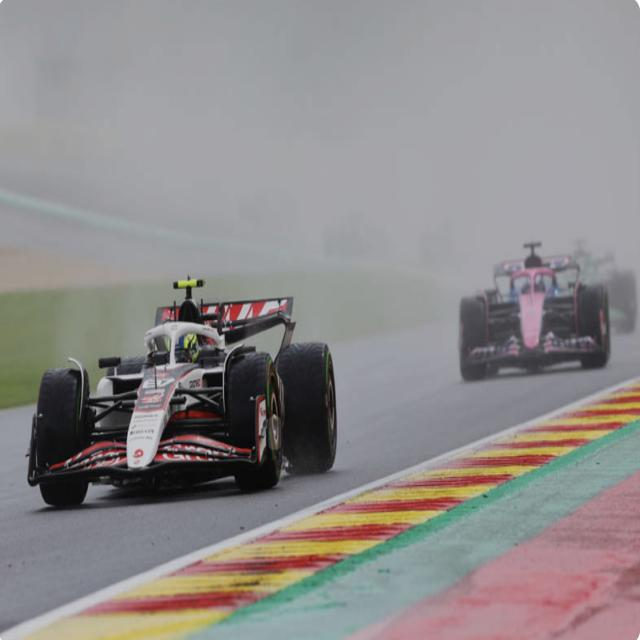Alpine: (459, 240, 611, 382)
Haas: (26, 278, 338, 508)
